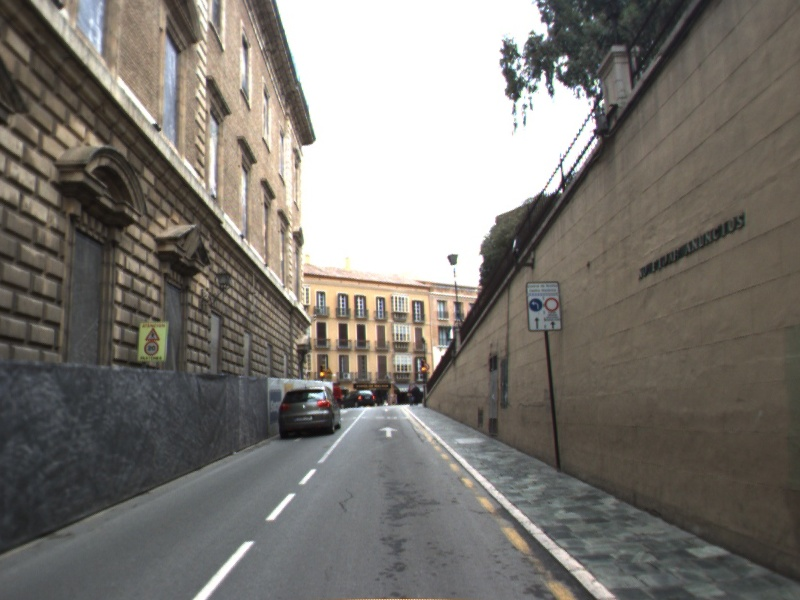STRAIGHT: (377, 424, 400, 439)
